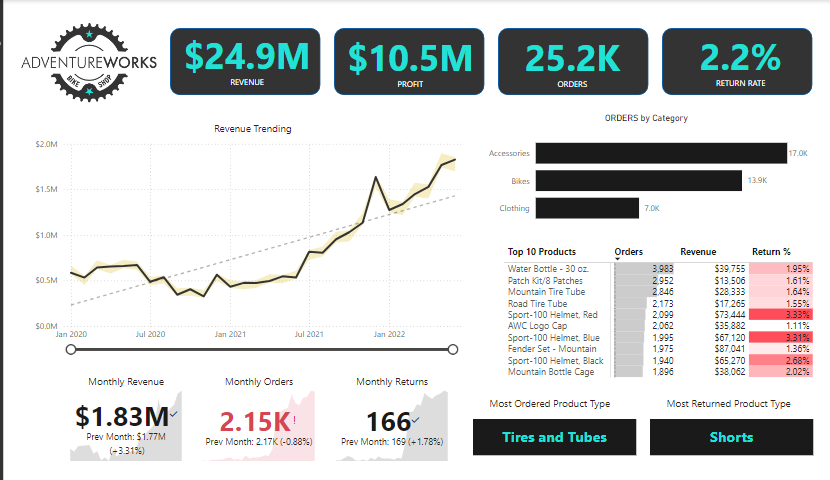

This screenshot's page, from the dashboard's own definition file:
{"tool":"powerbi","page":{"name":"Executive Dashboard","canvas":[1280,720],"ordinal":0},"visuals":[{"type":"image","title":"AW logo","box":[44.8,6.9,256.9,172.4],"z":0},{"type":"card","fields":{"Values":["MeasureTable.Total Revenue"]},"box":[278.4,14.7,258.9,146.6],"z":0,"group":"g2"},{"type":"group","id":"g1","title":"KPI Background","box":[293.7,41.2,956.9,100],"z":0,"group":"g3"},{"type":"shape","box":[293.7,41.2,223.9,100],"z":0,"group":"g1"},{"type":"actionButton","box":[0,611.1,45.5,42.7],"z":0,"group":"g4"},{"type":"shape","title":"Left Nav Bar","box":[0,0,45.4,720],"z":1000},{"type":"group","id":"g2","title":"KPI Values","box":[278.4,14.7,998.6,146.6],"z":1000,"group":"g3"},{"type":"card","fields":{"Values":["MeasureTable.Total Orders"]},"box":[757.5,20.5,269,139.7],"z":1000,"group":"g2"},{"type":"shape","box":[1026.5,41.2,223.9,100],"z":1000,"group":"g1"},{"type":"actionButton","box":[0,666.4,45.5,42.7],"z":1000,"group":"g4"},{"type":"group","id":"g3","title":"KPIs","box":[278.4,14.7,998.6,146.6],"z":2000},{"type":"card","fields":{"Values":["MeasureTable.Return Rate"]},"box":[1007.2,18.8,269.9,139.7],"z":2000,"group":"g2"},{"type":"shape","box":[538,41.2,223.9,100],"z":2000,"group":"g1"},{"type":"actionButton","box":[0,551,45.5,42.7],"z":2000,"group":"g4"},{"type":"card","fields":{"Values":["MeasureTable.Total Profit"]},"box":[516.1,20.5,269,139.7],"z":3000,"group":"g2"},{"type":"shape","box":[782.3,41.2,223.9,100],"z":3000,"group":"g1"},{"type":"lineChart","title":"Revenue Trending","fields":{"Y":["MeasureTable.REVENUE"],"Category":["Calendar Lookup.Start of Month"]},"box":[87.8,180,657.1,351.2],"z":3000},{"type":"actionButton","box":[0,490.9,45.5,42.7],"z":3000,"group":"g4"},{"type":"kpi","title":"Monthly Revenue","fields":{"Indicator":["MeasureTable.REVENUE"],"TrendLine":["Calendar Lookup.Start of Month"],"Goal":["MeasureTable.Previous Month Revenue"]},"box":[140.5,556.1,175.6,134.6],"z":4000},{"type":"kpi","title":"Monthly Returns","fields":{"TrendLine":["Calendar Lookup.Start of Month"],"Indicator":["MeasureTable.Total Returns"],"Goal":["MeasureTable.Previous Month Returns"]},"box":[535.6,556.1,175.6,134.6],"z":5000},{"type":"kpi","title":"Monthly Orders","fields":{"TrendLine":["Calendar Lookup.Start of Month"],"Indicator":["MeasureTable.ORDERS"],"Goal":["MeasureTable.Previous Months Orders"]},"box":[338,556.1,175.6,134.6],"z":6000},{"type":"barChart","title":"ORDERS by Category","fields":{"Category":["Product Categories Lookup.CategoryName"],"Y":["MeasureTable.ORDERS"]},"box":[757.6,168.2,489.7,180.1],"z":7000},{"type":"pivotTable","fields":{"Rows":["Product Lookup.ProductName"],"Values":["MeasureTable.ORDERS","MeasureTable.REVENUE","MeasureTable.RETURN RATE"]},"box":[785.9,360.2,471.8,208.4],"z":8000},{"type":"card","fields":{"Values":["Min(Product Subcategories Lookup.SubcategoryName)"]},"box":[744.9,623.4,242.9,54.1],"z":9000},{"type":"textbox","box":[744.9,585.4,228.3,33.7],"z":10000},{"type":"card","fields":{"Values":["Min(Product Subcategories Lookup.SubcategoryName)"]},"box":[1008.3,623.4,242.9,54.1],"z":11000},{"type":"textbox","box":[1003.9,585.4,242.9,33.7],"z":12000},{"type":"actionButton","box":[0,7.3,45.4,41],"z":13000},{"type":"group","id":"g4","title":"Nav Buttons","box":[0,490.9,45.5,218.2],"z":14000},{"type":"actionButton","box":[0,53,45.5,50],"z":15000}]}

Visuals, with their boxes in screenshot pixels (x1, y1, x2, y2), scaled from the page's 1280x720 canvas onto the 830x480 screenshot:
"AW logo" image: {"x1": 29, "y1": 5, "x2": 196, "y2": 120}
card - MeasureTable.Total Revenue: {"x1": 181, "y1": 10, "x2": 348, "y2": 108}
"KPI Background" group: {"x1": 190, "y1": 27, "x2": 811, "y2": 94}
shape: {"x1": 190, "y1": 27, "x2": 336, "y2": 94}
actionButton: {"x1": 0, "y1": 407, "x2": 30, "y2": 436}
"Left Nav Bar" shape: {"x1": 0, "y1": 0, "x2": 29, "y2": 479}
"KPI Values" group: {"x1": 181, "y1": 10, "x2": 828, "y2": 108}
card - MeasureTable.Total Orders: {"x1": 491, "y1": 14, "x2": 666, "y2": 107}
shape: {"x1": 666, "y1": 27, "x2": 811, "y2": 94}
actionButton: {"x1": 0, "y1": 444, "x2": 30, "y2": 473}
"KPIs" group: {"x1": 181, "y1": 10, "x2": 828, "y2": 108}
card - MeasureTable.Return Rate: {"x1": 653, "y1": 13, "x2": 828, "y2": 106}
shape: {"x1": 349, "y1": 27, "x2": 494, "y2": 94}
actionButton: {"x1": 0, "y1": 367, "x2": 30, "y2": 396}
card - MeasureTable.Total Profit: {"x1": 335, "y1": 14, "x2": 509, "y2": 107}
shape: {"x1": 507, "y1": 27, "x2": 652, "y2": 94}
"Revenue Trending" lineChart: {"x1": 57, "y1": 120, "x2": 483, "y2": 354}
actionButton: {"x1": 0, "y1": 327, "x2": 30, "y2": 356}
"Monthly Revenue" kpi: {"x1": 91, "y1": 371, "x2": 205, "y2": 460}
"Monthly Returns" kpi: {"x1": 347, "y1": 371, "x2": 461, "y2": 460}
"Monthly Orders" kpi: {"x1": 219, "y1": 371, "x2": 333, "y2": 460}
"ORDERS by Category" barChart: {"x1": 491, "y1": 112, "x2": 809, "y2": 232}
pivotTable - Product Lookup.ProductName x MeasureTable.ORDERS: {"x1": 510, "y1": 240, "x2": 816, "y2": 379}
card - Min(Product Subcategories Lookup.SubcategoryName): {"x1": 483, "y1": 416, "x2": 641, "y2": 452}
textbox: {"x1": 483, "y1": 390, "x2": 631, "y2": 413}
card - Min(Product Subcategories Lookup.SubcategoryName): {"x1": 654, "y1": 416, "x2": 811, "y2": 452}
textbox: {"x1": 651, "y1": 390, "x2": 808, "y2": 413}
actionButton: {"x1": 0, "y1": 5, "x2": 29, "y2": 32}
"Nav Buttons" group: {"x1": 0, "y1": 327, "x2": 30, "y2": 473}
actionButton: {"x1": 0, "y1": 35, "x2": 30, "y2": 69}
